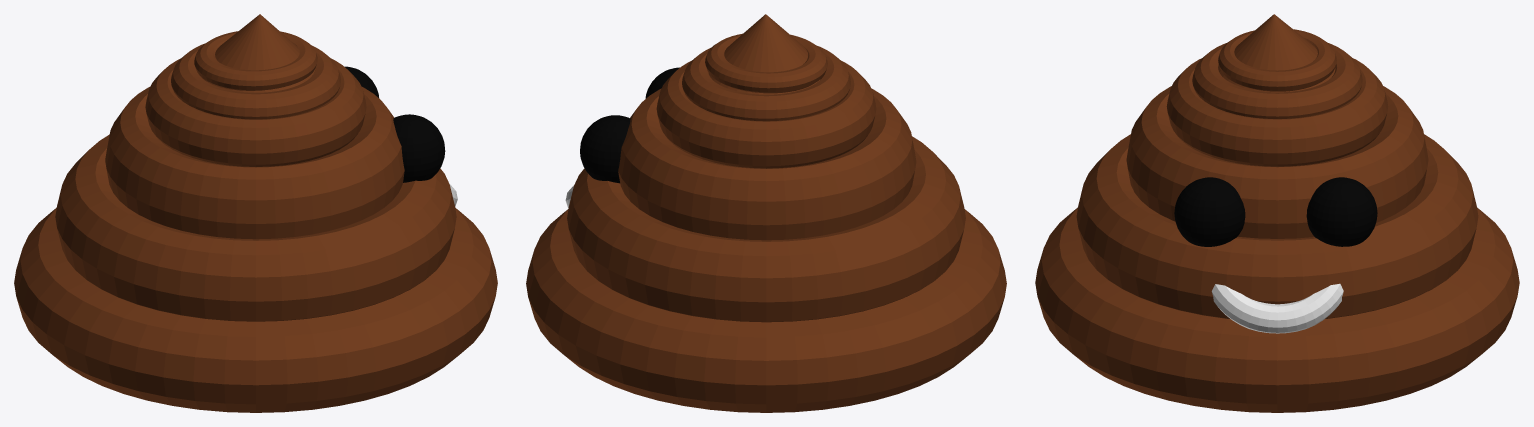
File: shit.fbx
3 renders of one model, left to right at view 1: azimuth 30°, elevation 25°; view 2: azimuth 150°, elevation 25°; view 3: azimuth 270°, elevation 25°, orthographic.
Parts seen in each view (by area): view 1: shit; view 2: shit; view 3: shit.
Part boxes in pixels (x1,y1,x2,y2): shit: [14, 14, 497, 412]; shit: [526, 14, 1006, 412]; shit: [1035, 14, 1519, 412].
Size of the model in its own units: 250 by 179 by 250.
